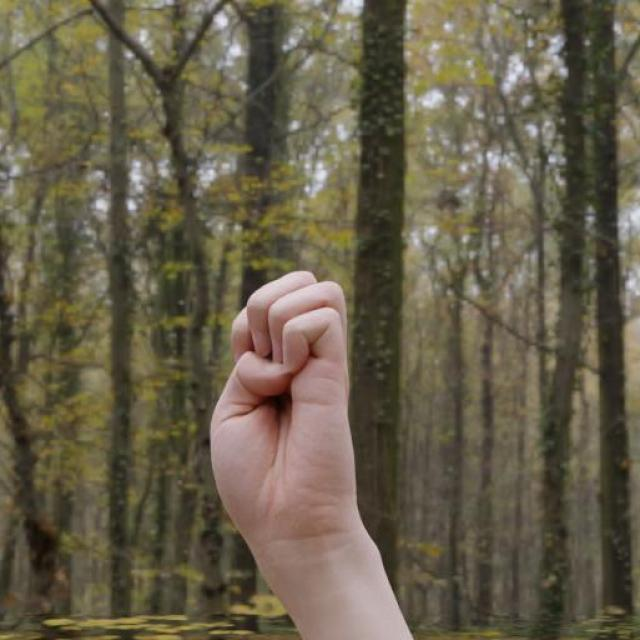E: (205, 264, 365, 552)
